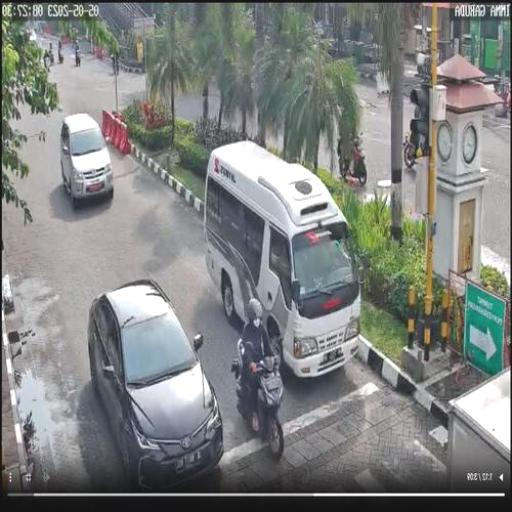mobil: (202, 135, 363, 380), (89, 280, 225, 484), (60, 112, 115, 211)
motor: (224, 330, 294, 468)
